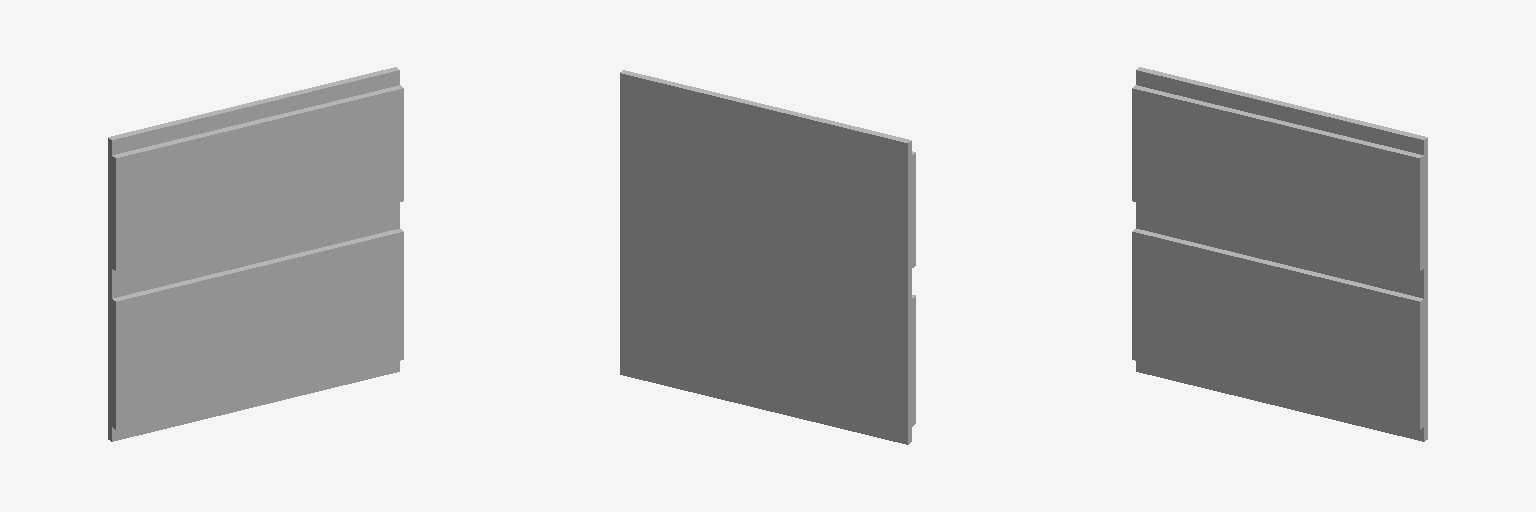
The model's file is Architeture1-17.obj.
3 views of the same model, side by side, from view 1: azimuth 30°, elevation 25°; view 2: azimuth 150°, elevation 25°; view 3: azimuth 330°, elevation 25° (orthographic).
Parts seen in each view (by area): view 1: object 1; view 2: object 1; view 3: object 1.
Part boxes in pixels (x1,y1,x2,y2): object 1: (108,67,403,441); object 1: (620,70,915,444); object 1: (1132,67,1427,441).
Bounding box in the file's own units: 4 × 4 × 0.2.